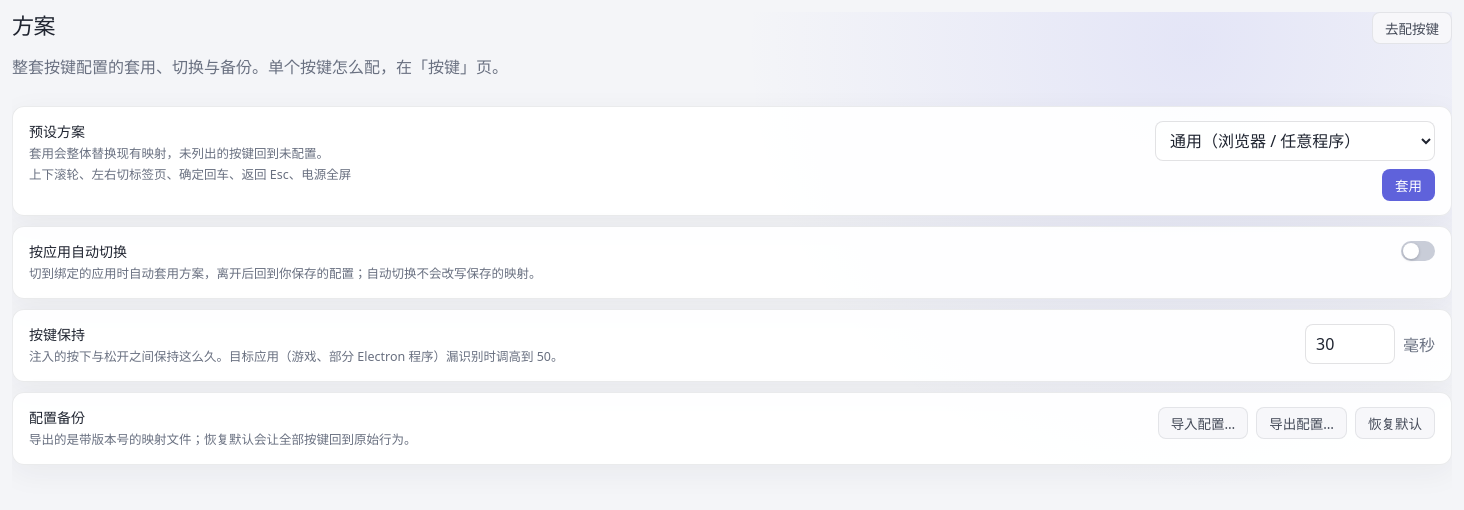
Test: 方案页 › 按键保持时长：改动即保存并提示
The width and height of the screenshot is (1464, 510).
Replace the text in the number field with id "injection-hold" with "50" at {"x": 1350, "y": 344}, box [1305,324,1395,364]
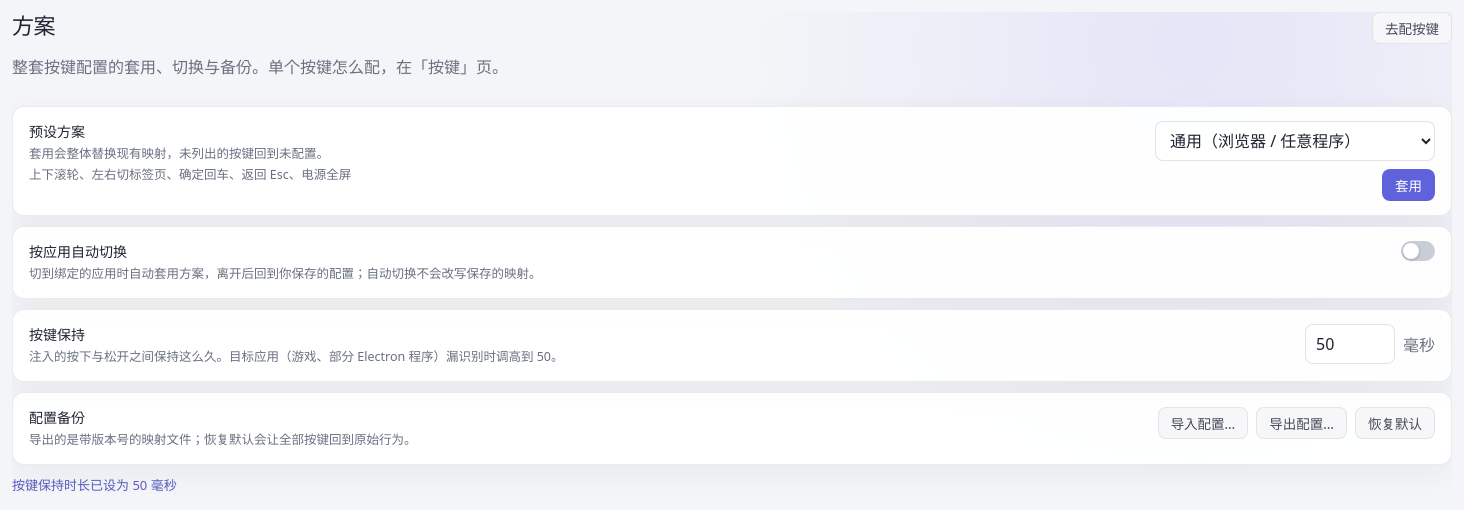
Expected: the text "按键保持时长已设为 50 毫秒" is shown, [12,476,177,494]
